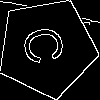C: (22, 22, 74, 67)
